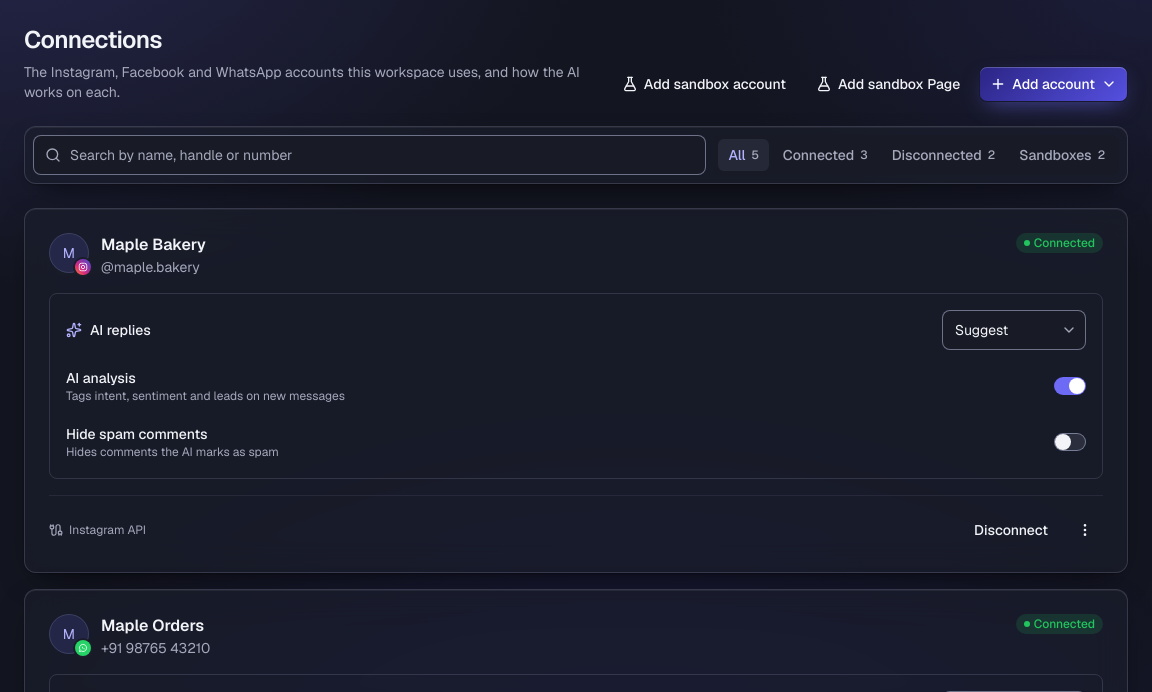
Test: search and filters (C-066) › Auto on the Free plan opens the upgrade dialog, with no request (UI-061)
The width and height of the screenshot is (1152, 692).
What coordinates should you click on to do the following:
click the dropdown named "AI replies"
I would click on:
 (1014, 330)
Its box is [942, 310, 1086, 350].
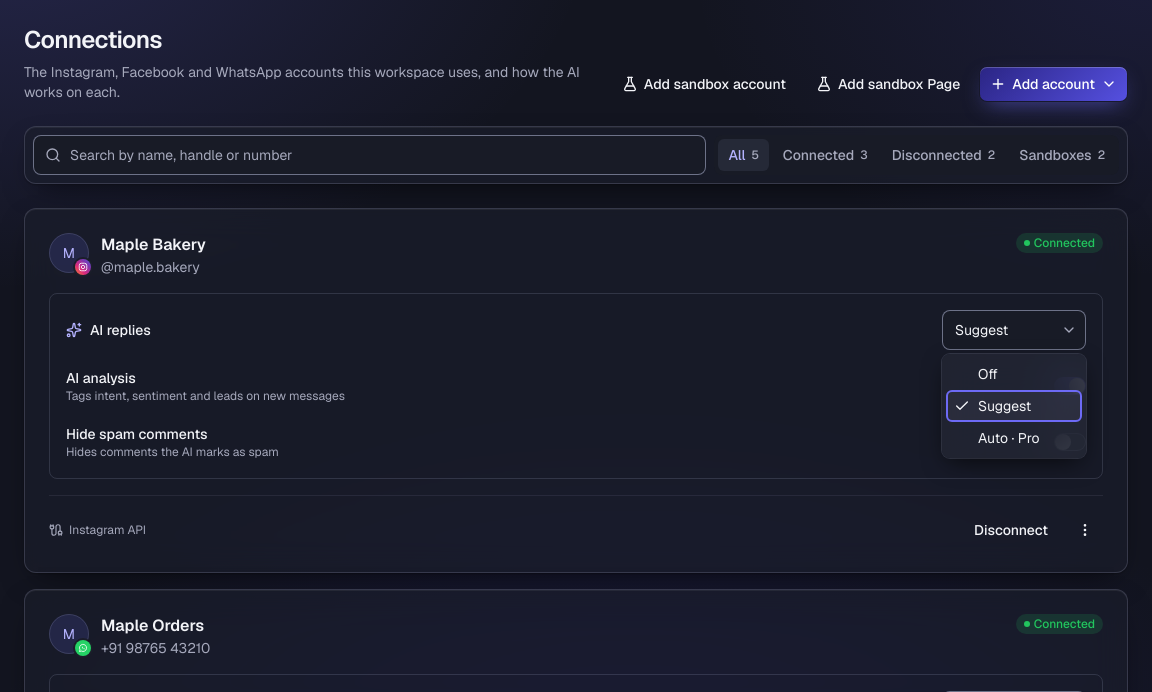
What coordinates should you click on to do the following:
click the option "Auto · Pro"
I would click on:
 (1065, 438)
Its box is [978, 428, 1151, 447].
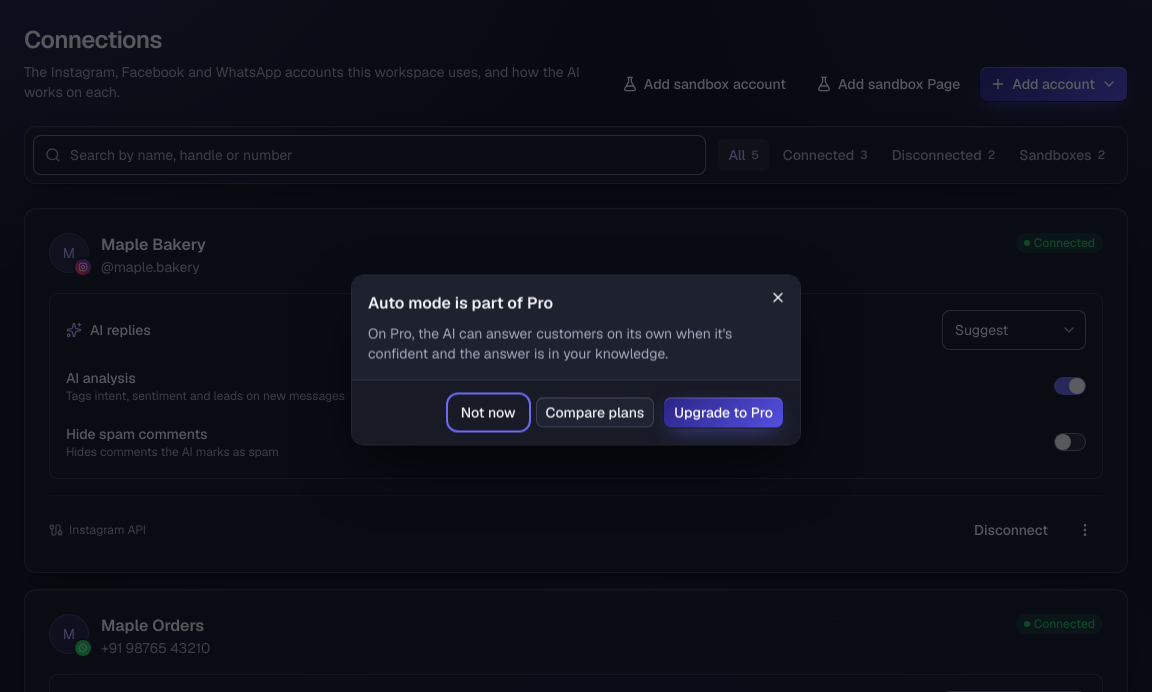
Expected: the dialog with test id "upgrade-dialog" is shown, [352, 276, 800, 444]
